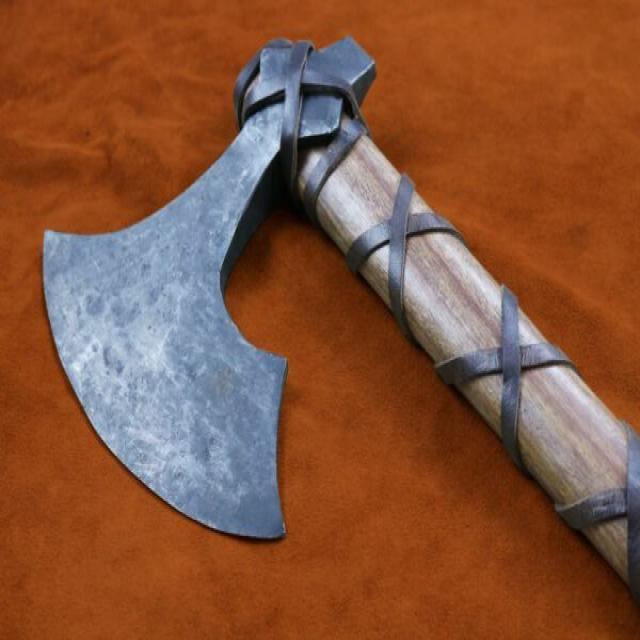axe: (40, 40, 640, 633)
